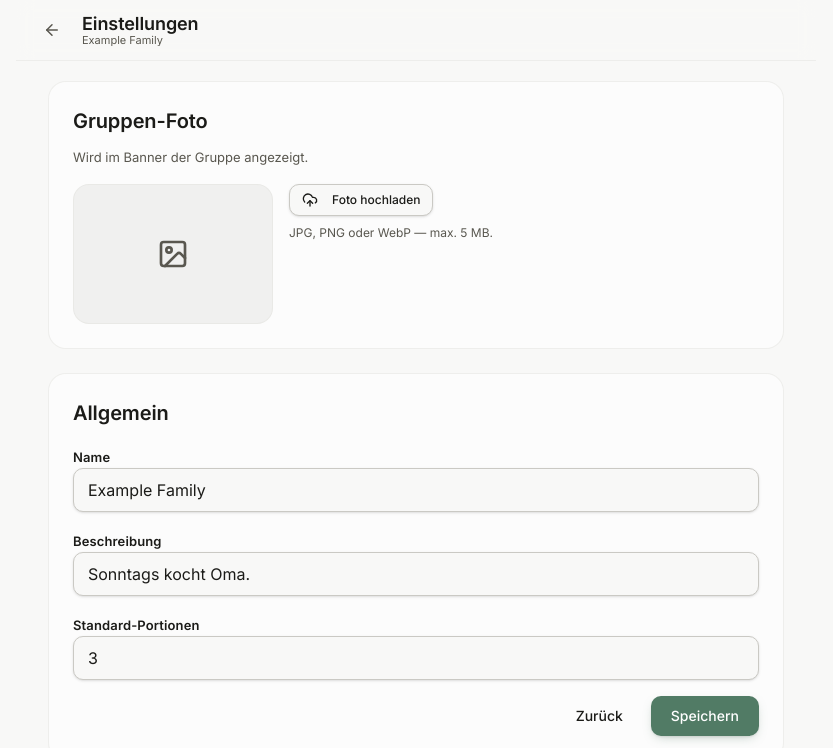
Test case: <GroupSettingsPage /> › surfaces a generic German fallback on 5xx save failures (REL-3f)
Expected: the field labelled "Name" is shown, [73, 468, 759, 512]
What coordinates should you click on to do the following:
click the button "Speichern"
I would click on:
 (705, 716)
Its box is [651, 696, 759, 736].
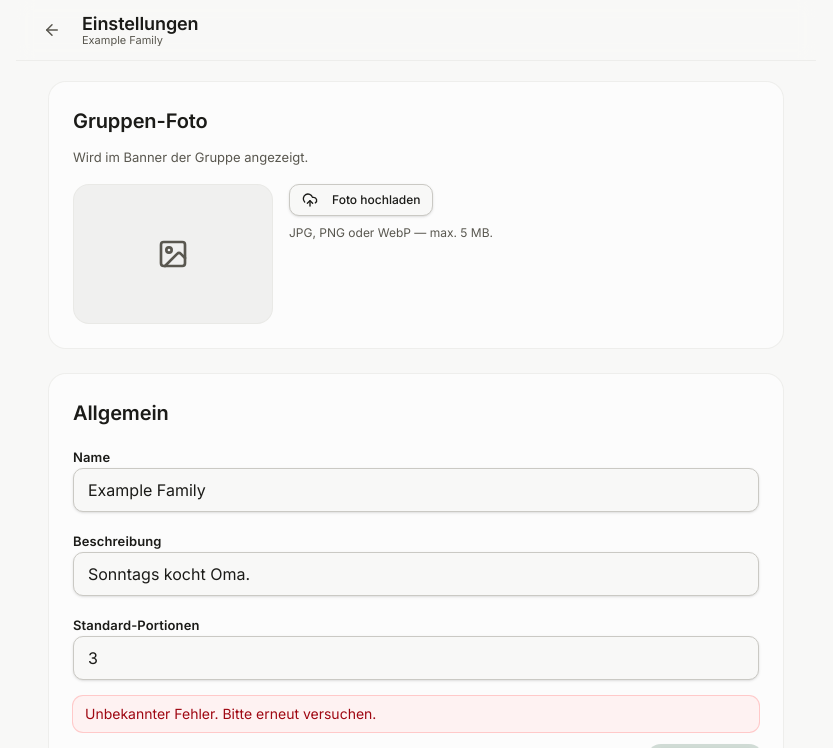
Expected: the message does not show "NullReferenceException", [73, 696, 759, 732]
Expected: the message shows "Unbekannter Fehler", [85, 704, 376, 722]
